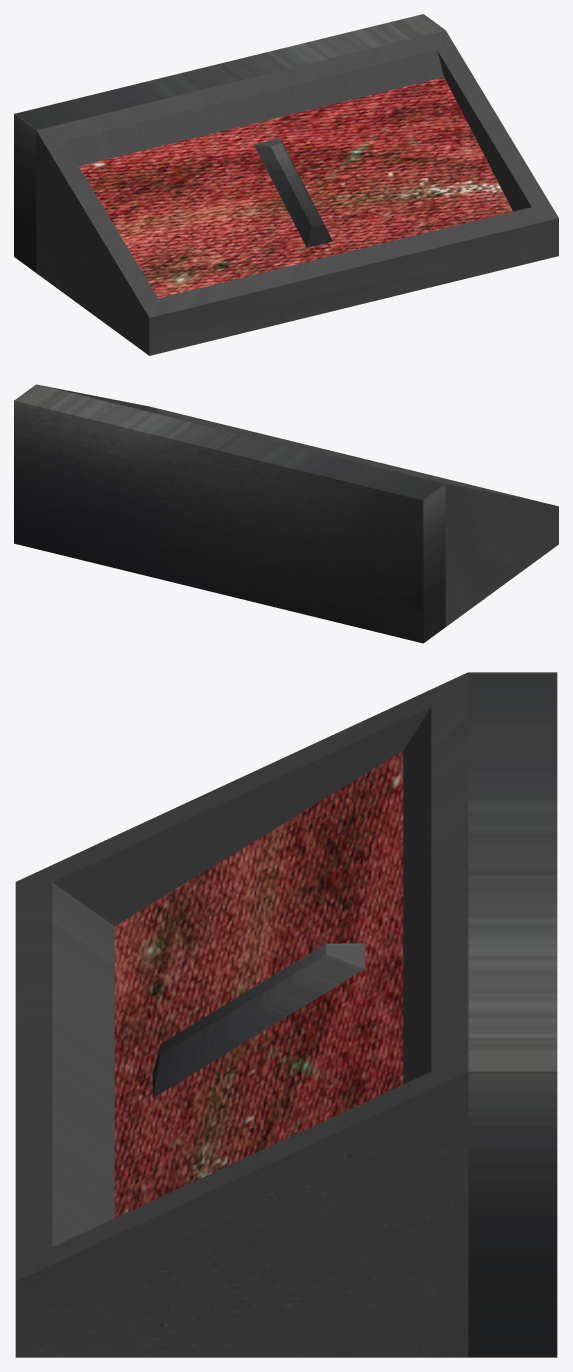
Rendered from shoes container.FBX.
3 renders of one model, top to bottom at view 1: azimuth 30°, elevation 25°; view 2: azimuth 150°, elevation 25°; view 3: azimuth 270°, elevation 25°, orthographic. The views are drawn at different scales.
Parts seen in each view (by area): view 1: Box001, Object001, Object002; view 2: Box001; view 3: Box001, Object001, Object002.
Boxes of the visible parts, x1,y1,x2,y2 form: Box001: [14, 14, 558, 355]; Object001: [79, 77, 512, 298]; Object002: [254, 138, 332, 247]; Box001: [14, 384, 558, 643]; Box001: [15, 672, 557, 1357]; Object001: [114, 751, 403, 1217]; Object002: [152, 943, 364, 1097].
Bounding box in the file's own units: 99.18 × 33.07 × 56.83.
3 materials, 3 textured.
